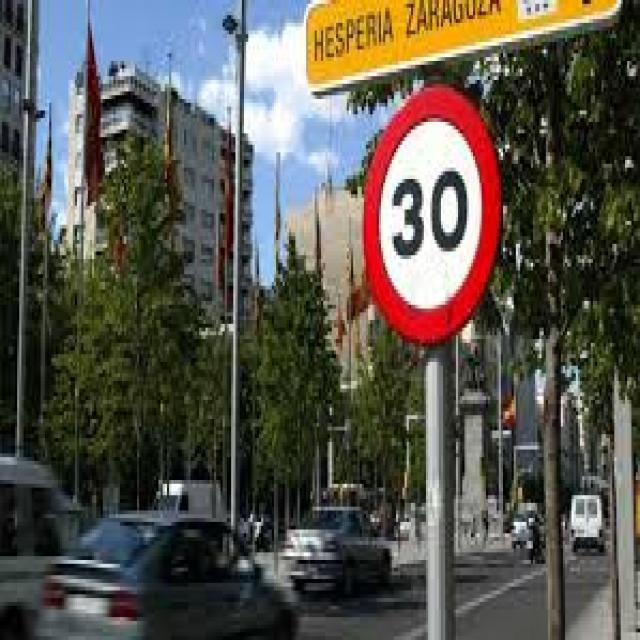Speed limit 30: (361, 77, 504, 348)
